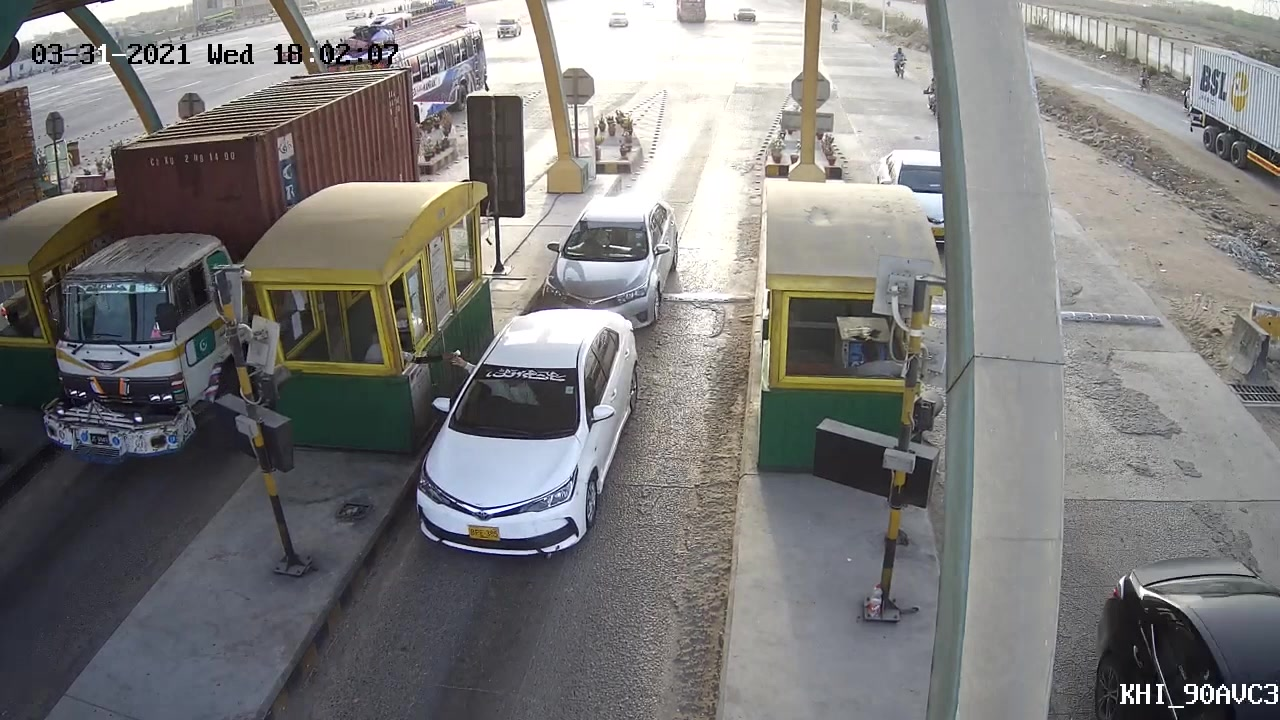F1: (396, 304, 650, 562)
